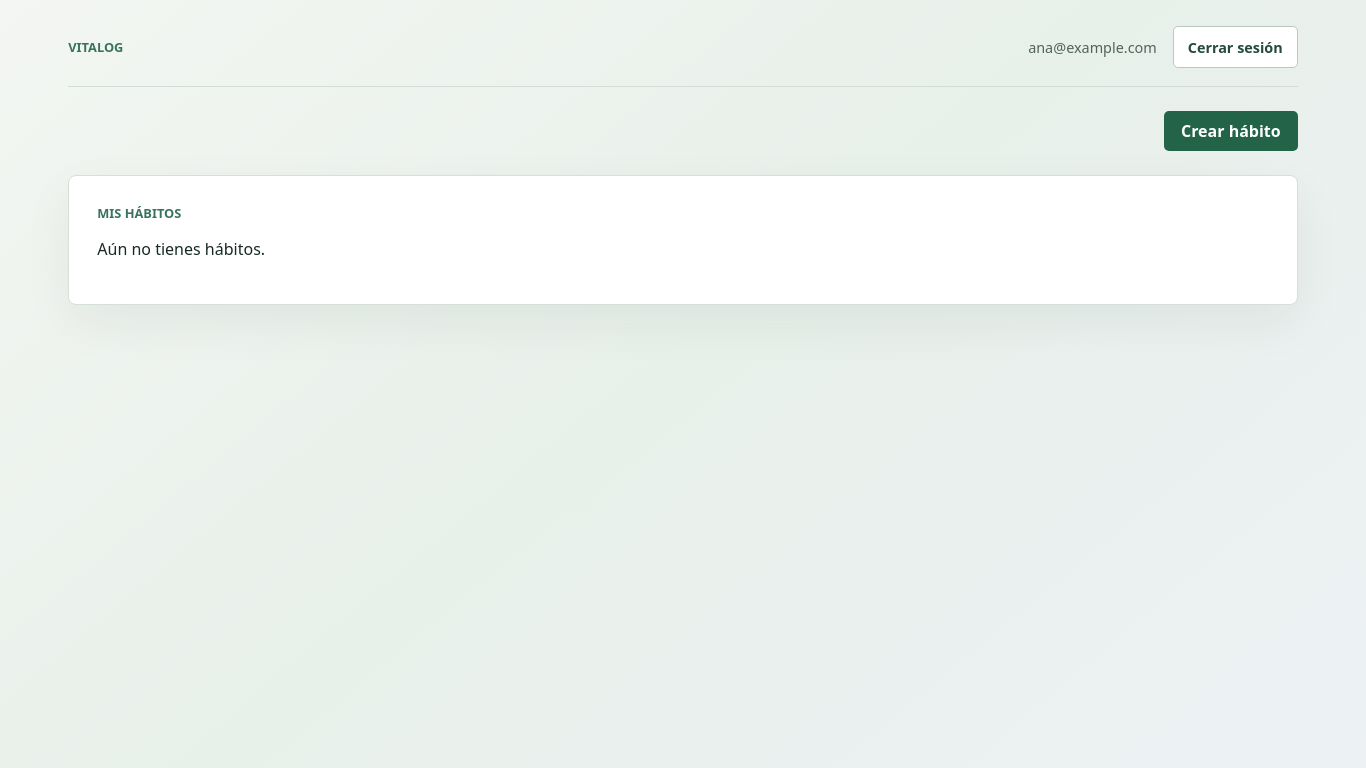
Test case: mantiene el formulario abierto cuando falla la creación del hábito
Click the button "Crear hábito".
click(1231, 131)  # box [1164,111,1298,151]
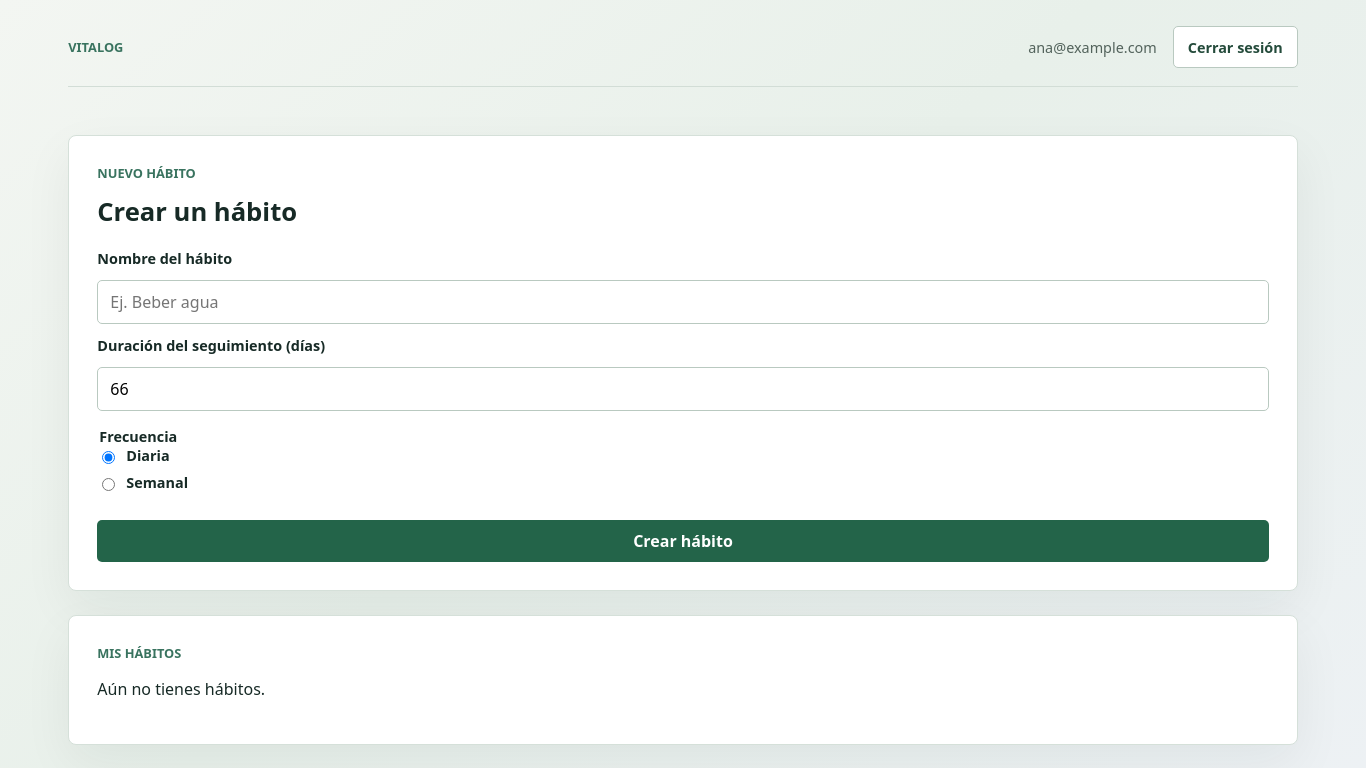
Type "Meditar" into the field labelled "Nombre del hábito".
click(683, 302); type("Meditar")  # box [97,280,1269,324]
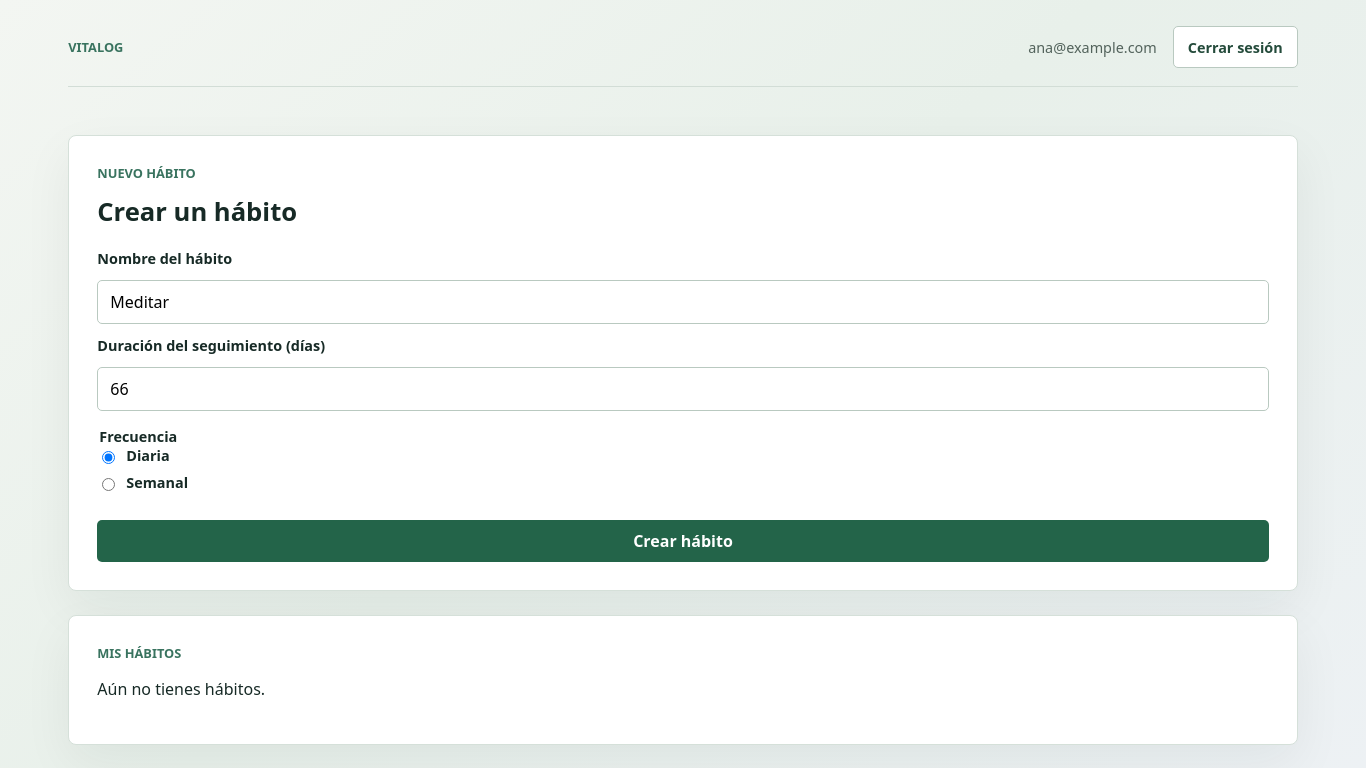
Click the button "Crear hábito".
click(683, 541)  # box [97,520,1269,562]
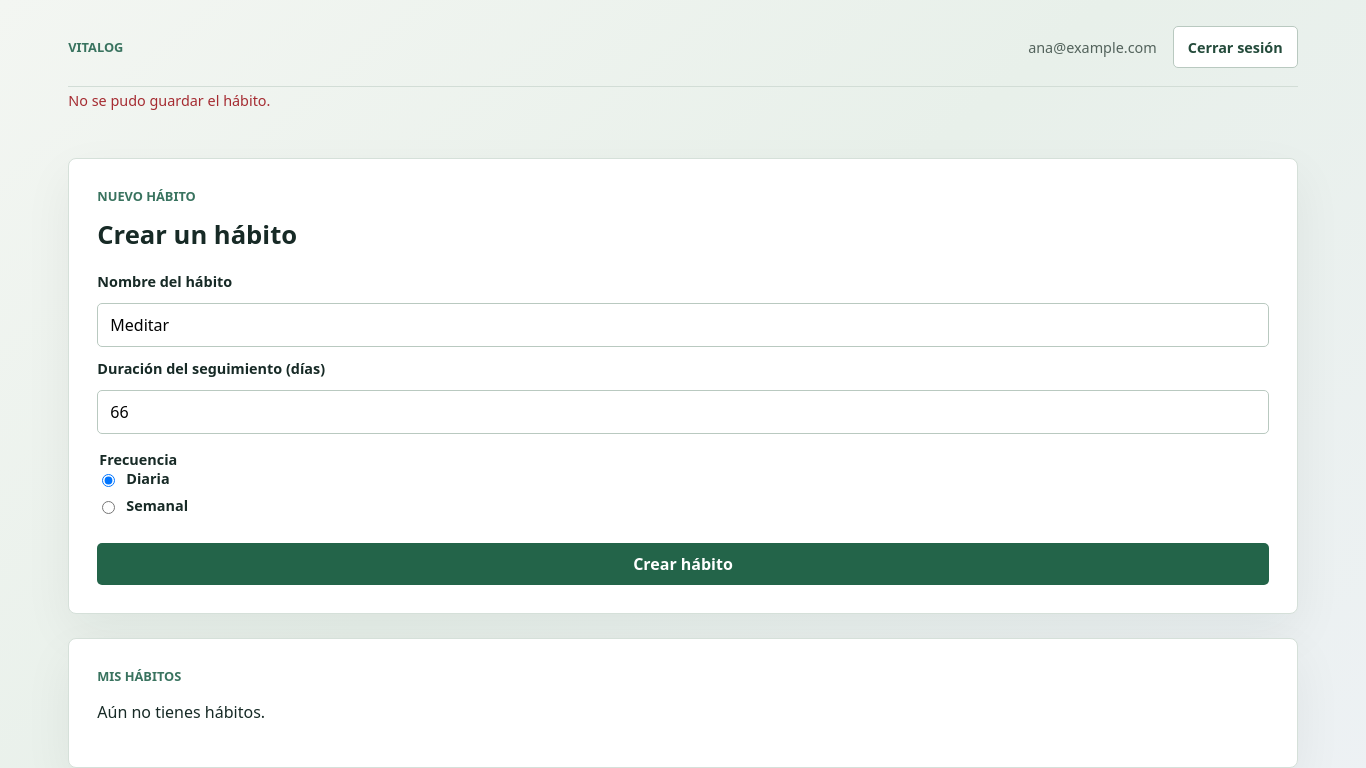
Now the message reads "No se pudo guardar el hábito.", box [68,91,270,110]
